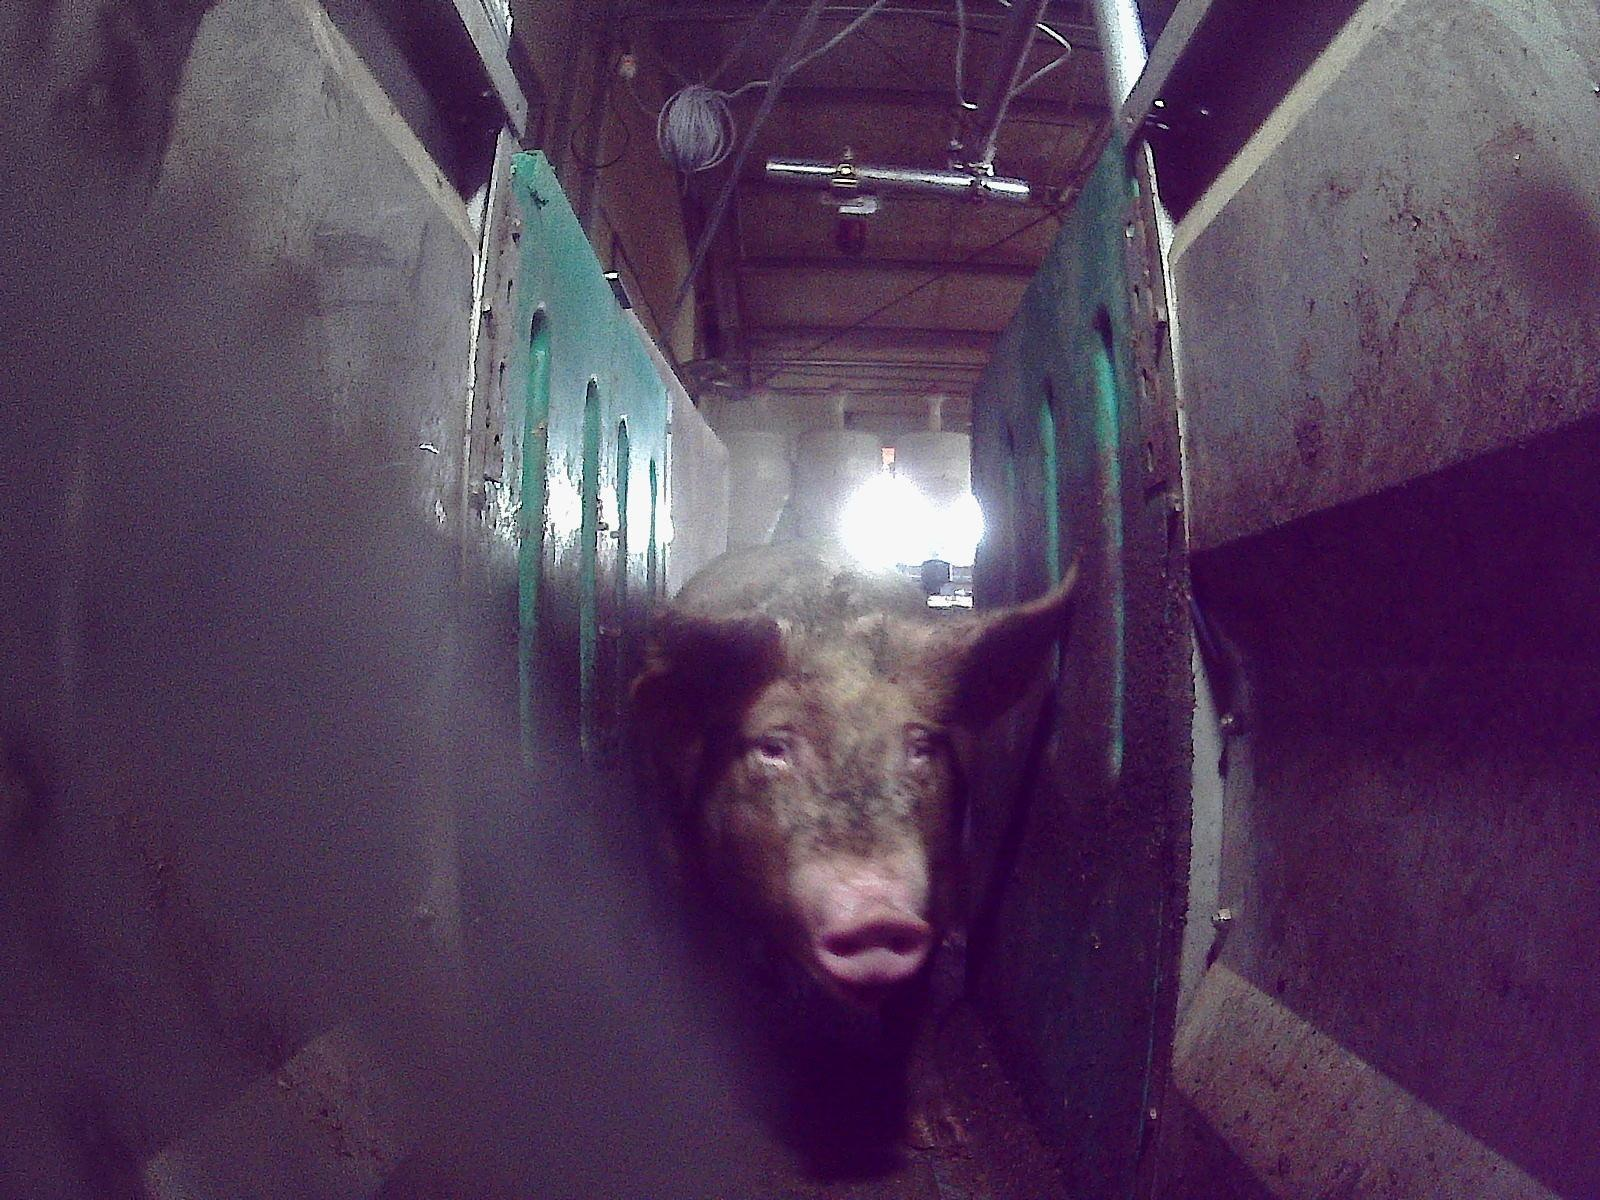Face: (713, 635, 955, 1007)
